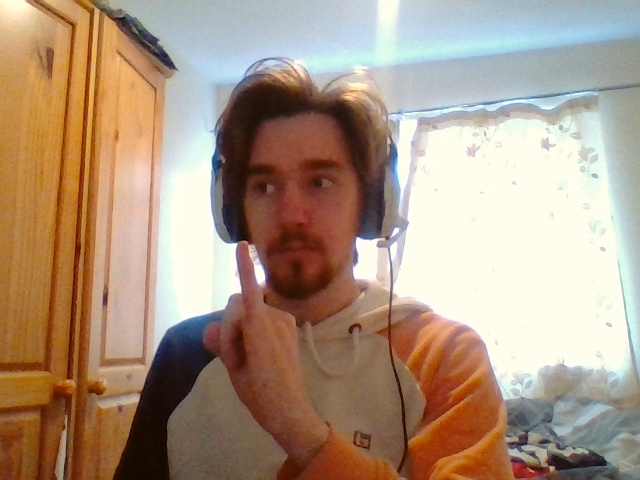bad: (205, 240, 297, 420)
